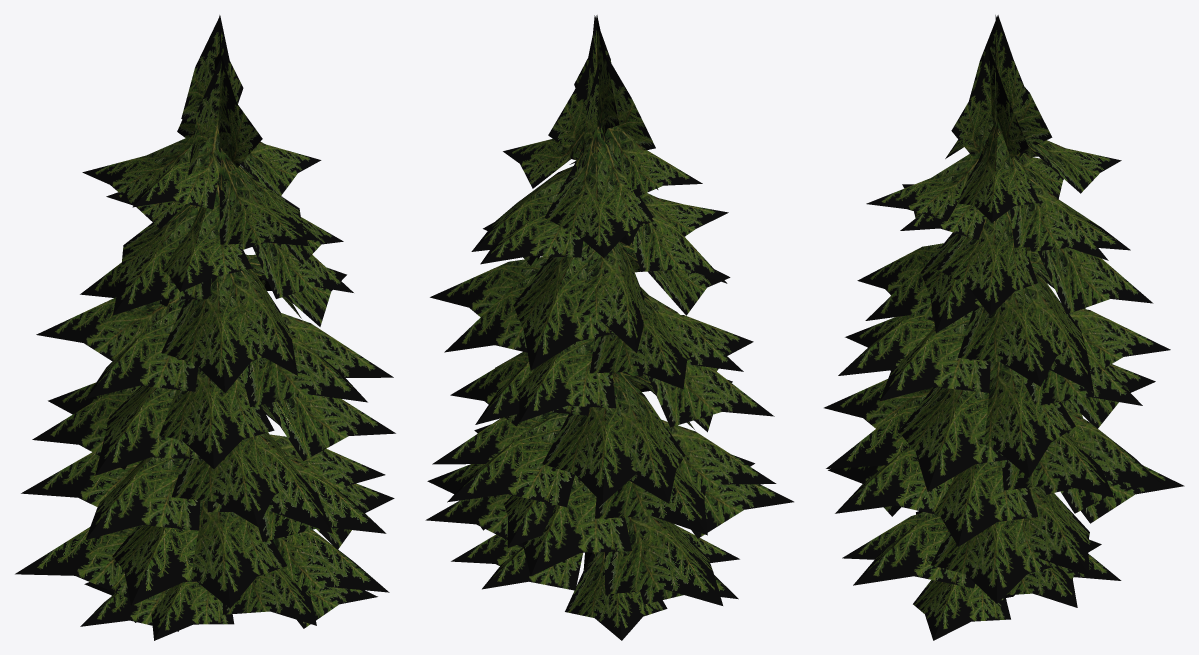
The model's file is tree5.obj.
The picture shows the model from 3 angles, left to right: view 1: azimuth 30°, elevation 25°; view 2: azimuth 150°, elevation 25°; view 3: azimuth 270°, elevation 25°; orthographic projection. The views are drawn at different scales.
Visible parts, largest first — view 1: tree5; view 2: tree5; view 3: tree5.
Boxes of the visible parts, bbox=[...] form: tree5: bbox=[15, 15, 395, 640]; tree5: bbox=[425, 15, 793, 640]; tree5: bbox=[824, 15, 1184, 640].
Size of the model in its own units: 6.35 by 10.61 by 6.
